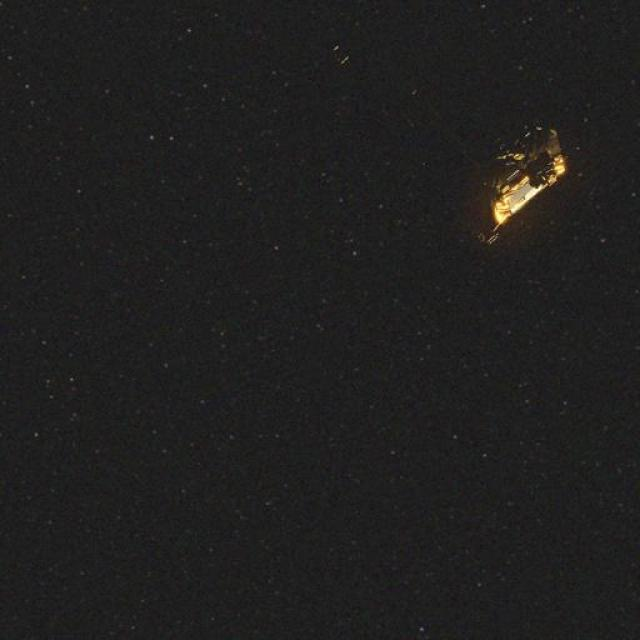lisa_pathfinder: (436, 83, 612, 292)
